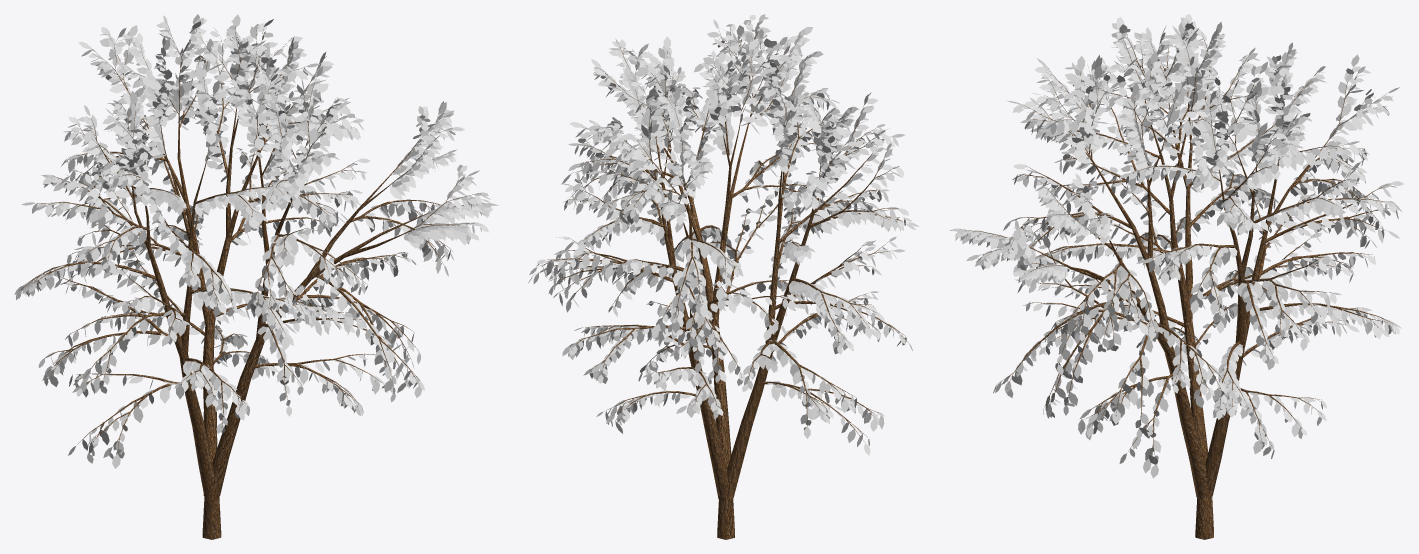
The model's file is Tree.fbx.
The picture shows the model from 3 angles, left to right: view 1: azimuth 30°, elevation 25°; view 2: azimuth 150°, elevation 25°; view 3: azimuth 270°, elevation 25°; orthographic projection. The views are drawn at different scales.
Parts seen in each view (by area): view 1: leaves, tree, leaves.001; view 2: leaves, tree, leaves.001; view 3: leaves, tree, leaves.001.
Boxes of the visible parts, x1,y1,x2,y2 form: leaves: (14,14,498,468); tree: (20,26,483,539); leaves.001: (24,19,490,458); leaves: (529,14,919,455); tree: (533,19,908,539); leaves.001: (528,21,905,446); leaves: (949,14,1403,478); tree: (964,22,1394,539); leaves.001: (993,22,1398,464).
Size of the model in its own units: 1334 by 1643 by 1362.
